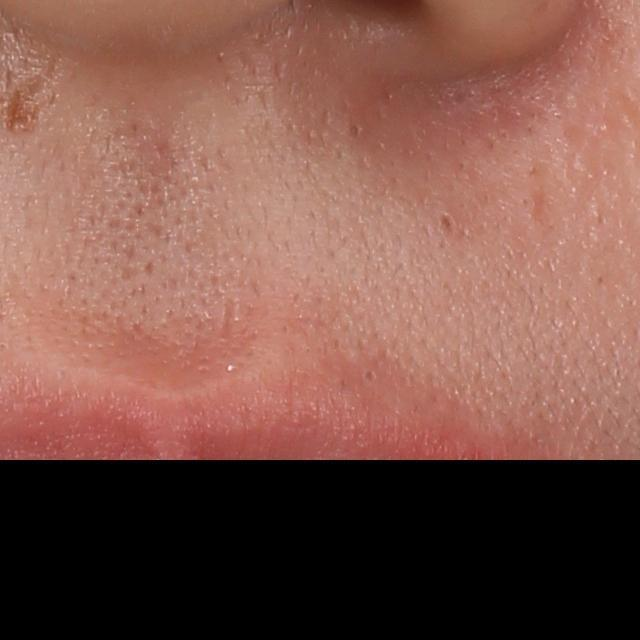atrophic_scar: (1, 85, 37, 131)
comedo: (345, 119, 364, 139), (362, 366, 378, 384)
